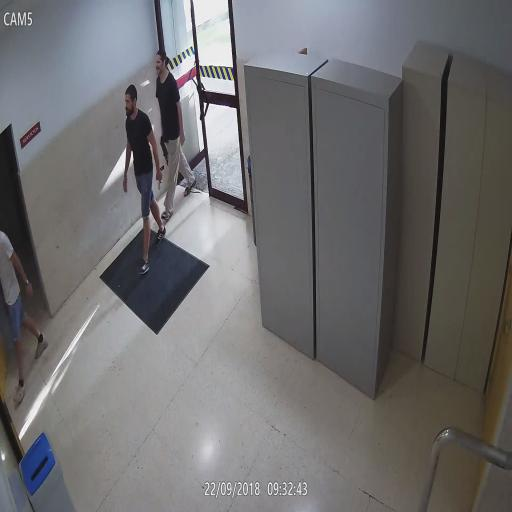Handgun: (156, 163, 164, 190)
